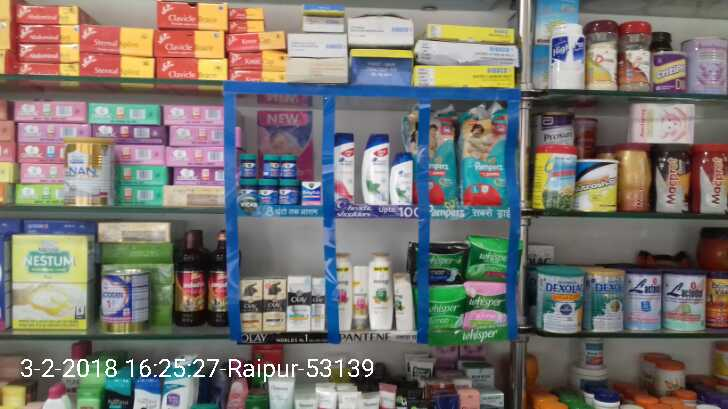beauty: (401, 110, 457, 203), (458, 108, 509, 209), (405, 237, 462, 283), (466, 231, 513, 286), (412, 284, 464, 331), (463, 278, 511, 328), (361, 131, 392, 207), (366, 253, 395, 330), (330, 130, 358, 204), (234, 275, 263, 332), (285, 270, 311, 332), (390, 267, 413, 334), (388, 153, 416, 207), (263, 273, 287, 333)
pharmacy: (232, 178, 302, 207), (262, 151, 299, 180), (237, 150, 259, 178)
